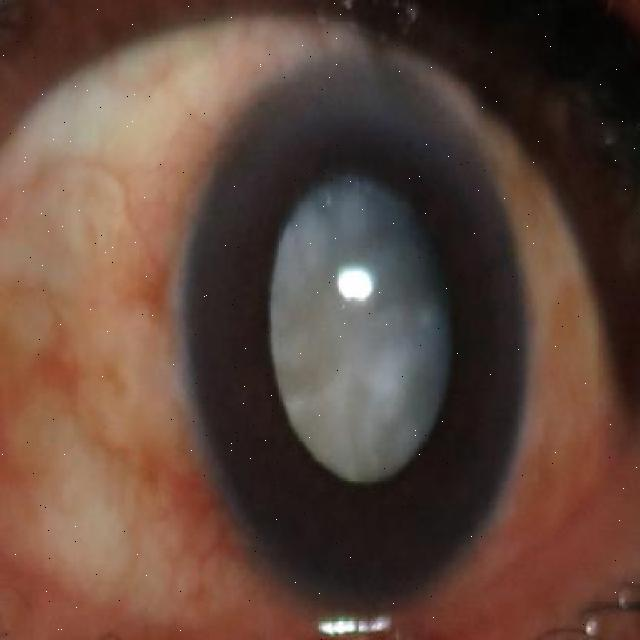Cataract: (174, 60, 532, 612)
